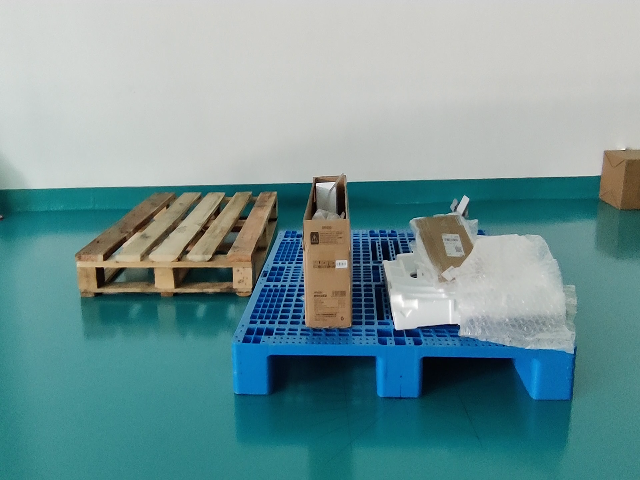block: (375, 344, 422, 402), (529, 351, 575, 402), (231, 340, 273, 395)
front: (230, 337, 575, 405)
hole pallet: (420, 357, 537, 400), (270, 355, 377, 398)
